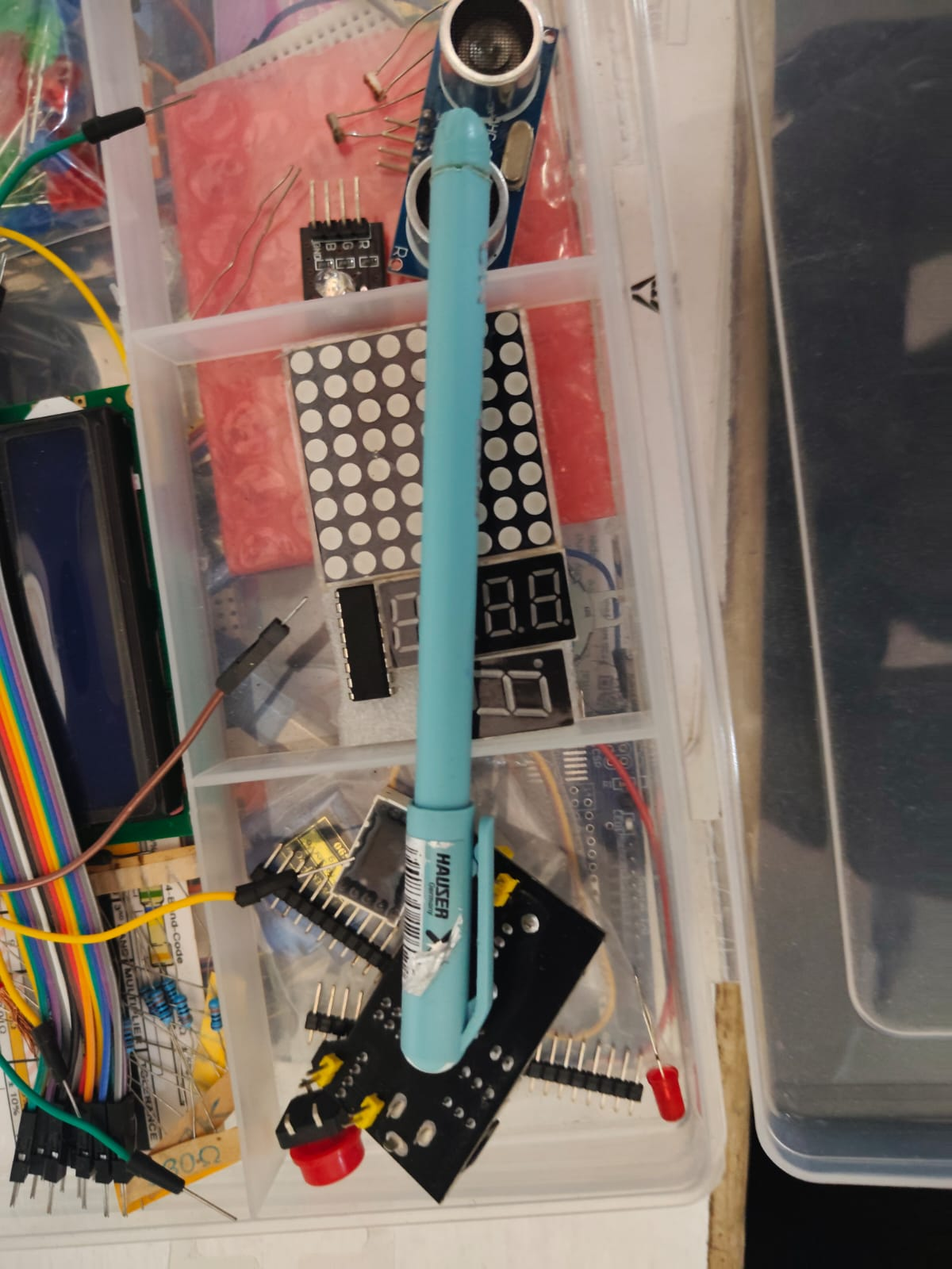pen: (379, 87, 523, 1107)
